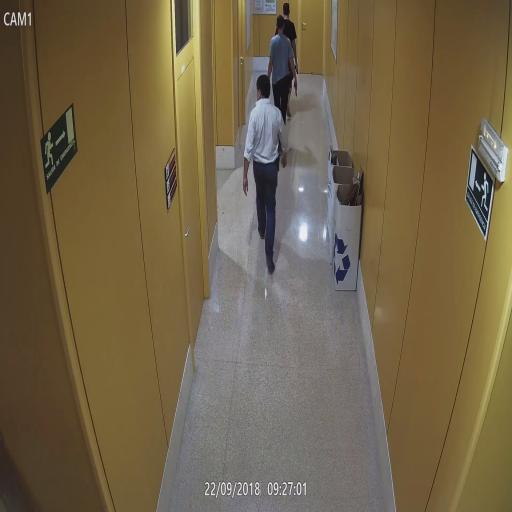Handgun: (292, 79, 300, 98), (294, 61, 300, 74)
